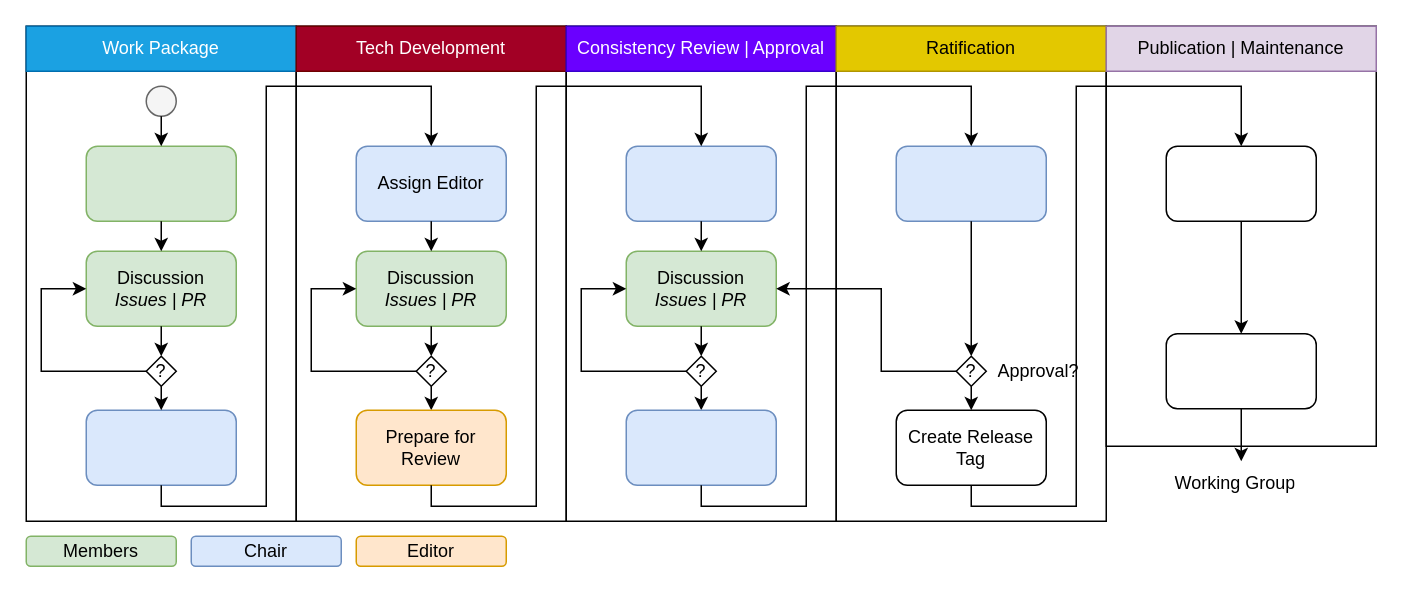
The diagram is 1403 pixels wide and 593 high, and some of its shapes have lost their labels. Each missing label, with the box of its shape:
Draft Work Package kick-off: (85, 145, 236, 221)
Open Review Period: (625, 145, 776, 221)
Public Input Issues | PRs: (1165, 332, 1316, 409)
Publication: (1165, 145, 1316, 221)
Steering Committee Review: (895, 145, 1046, 221)
WG Approval: (625, 409, 776, 485)
Work Package Approval: (85, 409, 236, 485)
